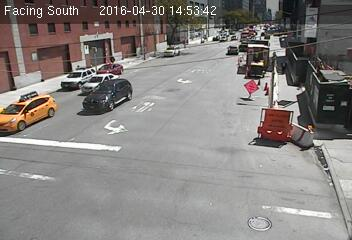neg: (230, 121, 250, 148), (152, 98, 165, 115)
pos: (275, 58, 290, 78)
